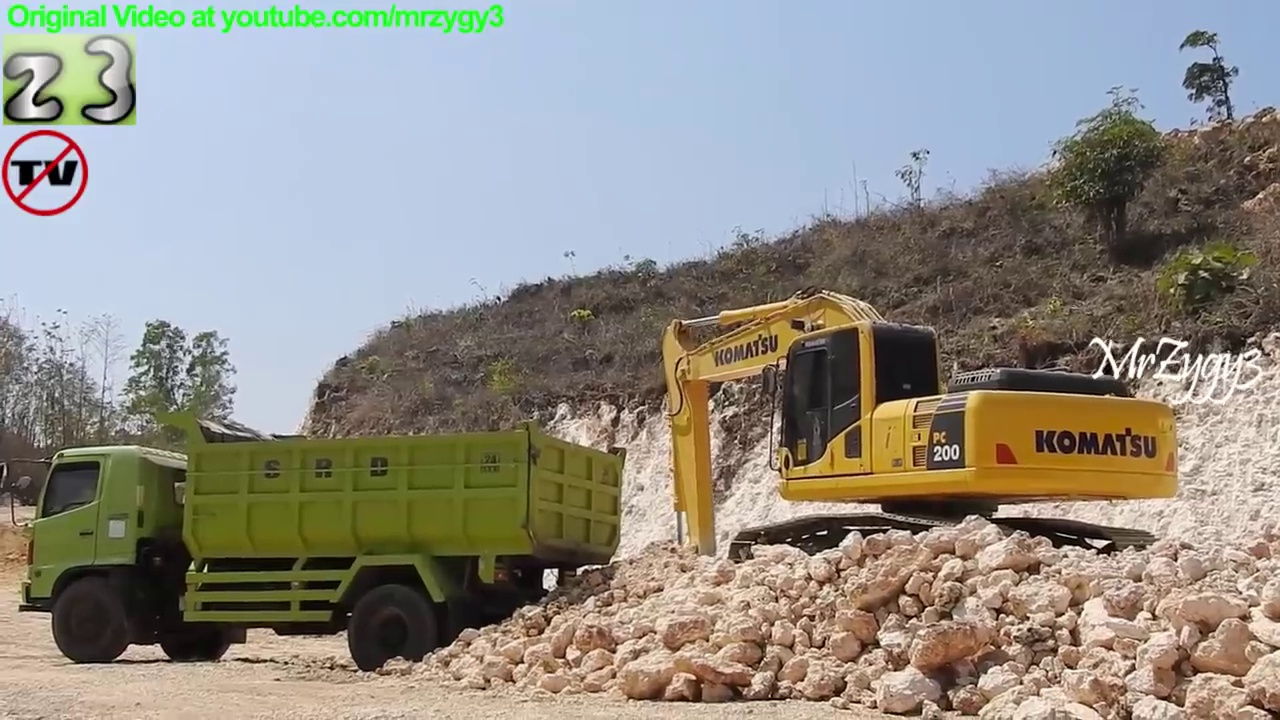excavator: (644, 285, 1186, 627)
truck: (1, 402, 631, 681)
